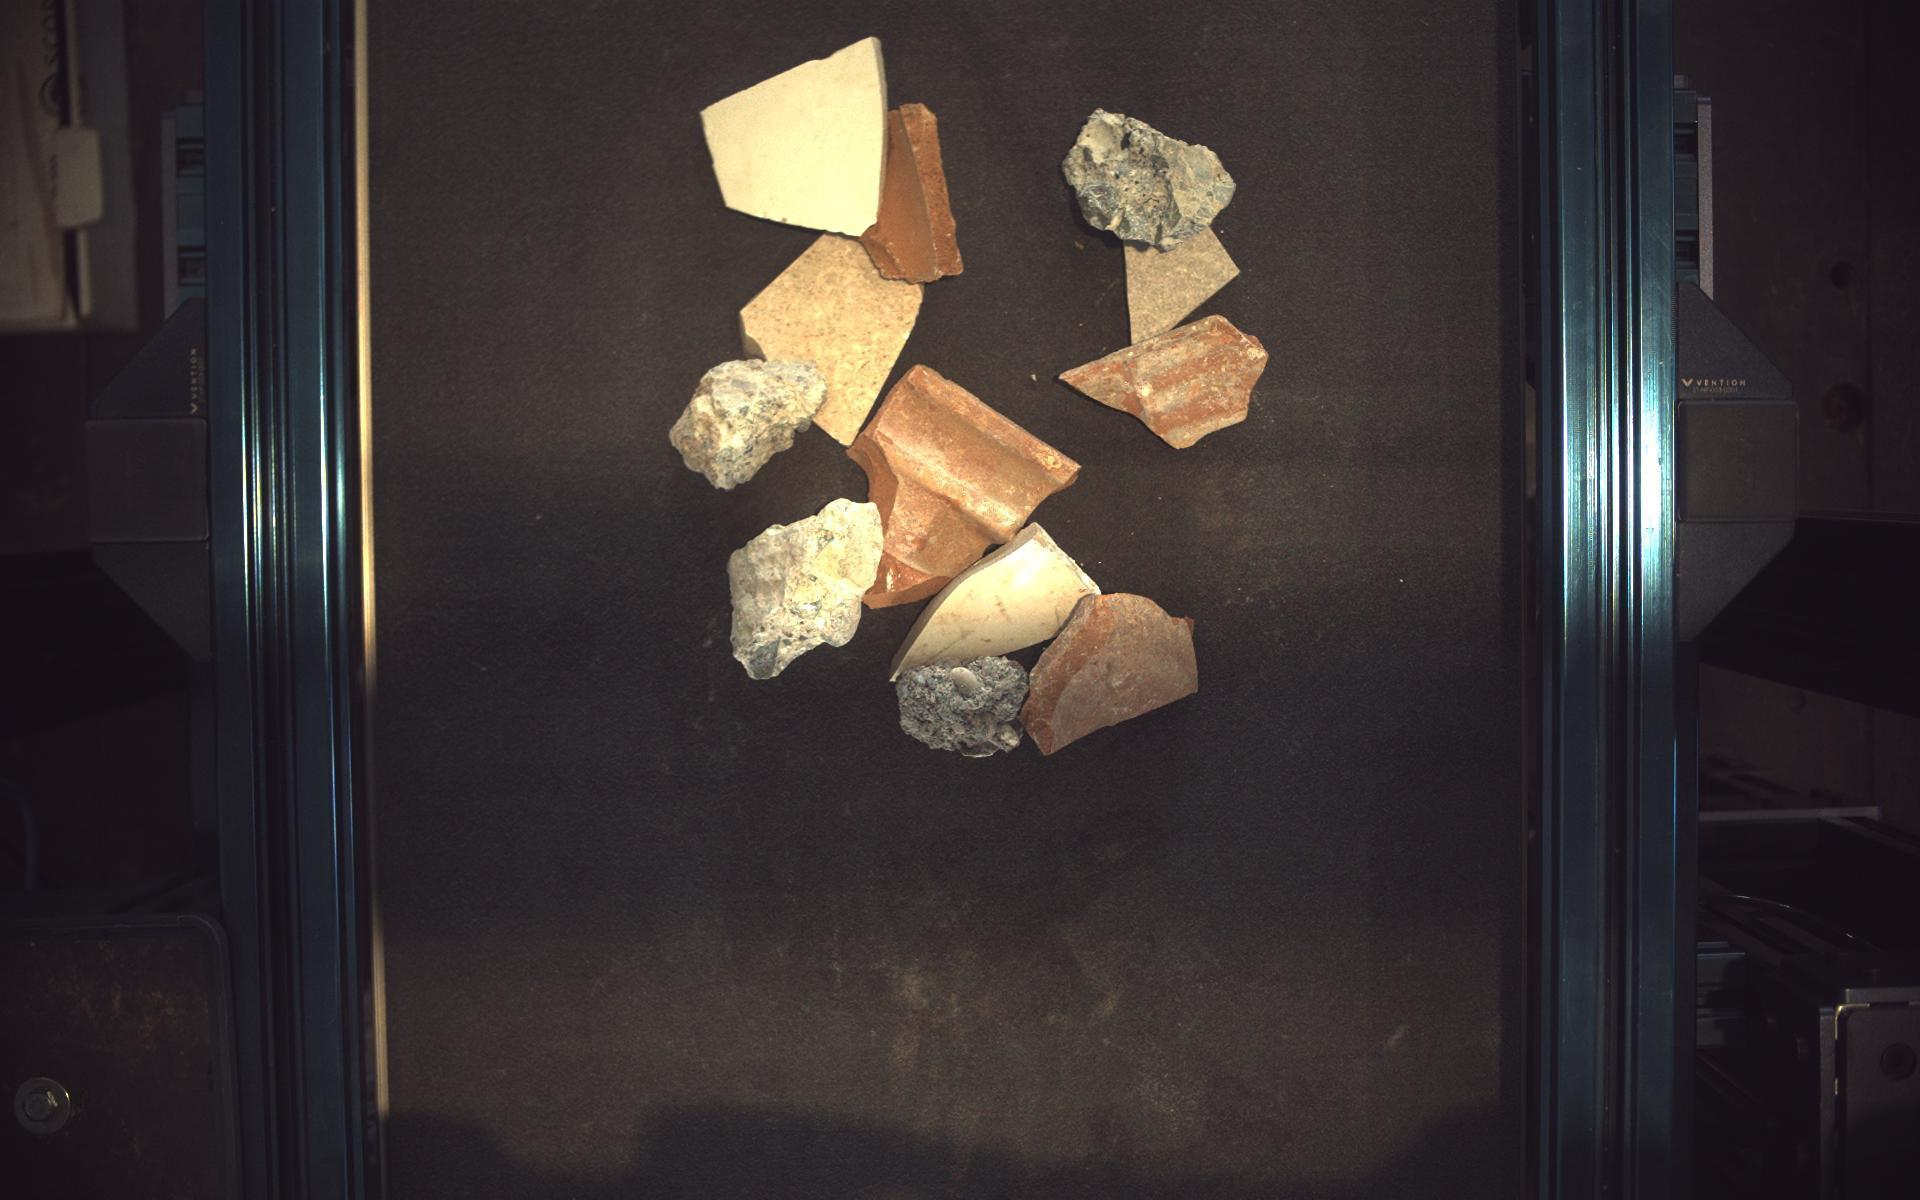brick: (849, 364, 1082, 610), (1022, 593, 1200, 756), (1062, 315, 1270, 448), (864, 102, 965, 282)
concrete: (728, 499, 885, 680), (1064, 106, 1239, 250), (670, 358, 827, 489), (896, 657, 1030, 759)
tile: (741, 232, 923, 445), (702, 35, 887, 235), (890, 523, 1102, 682), (1127, 227, 1241, 343)
